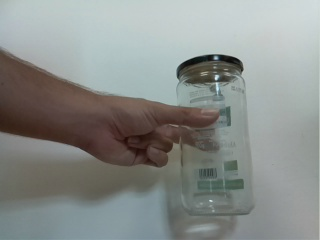pote cristal: (171, 51, 259, 220)
